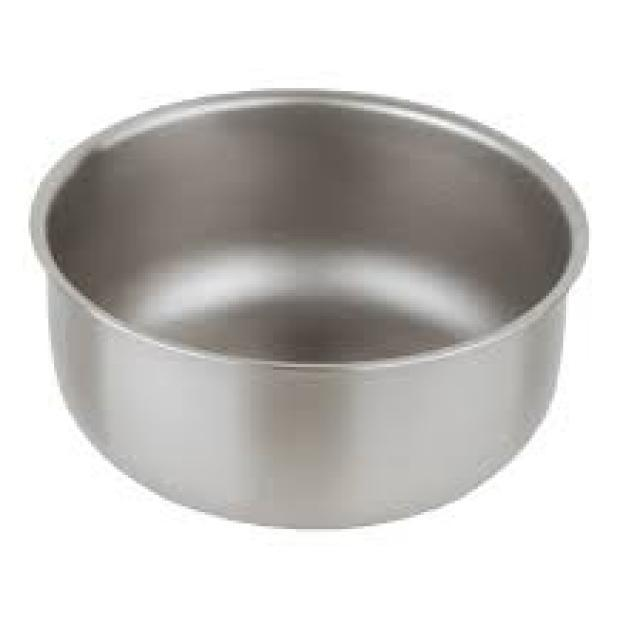Sponge Bowl: (28, 75, 590, 532)
